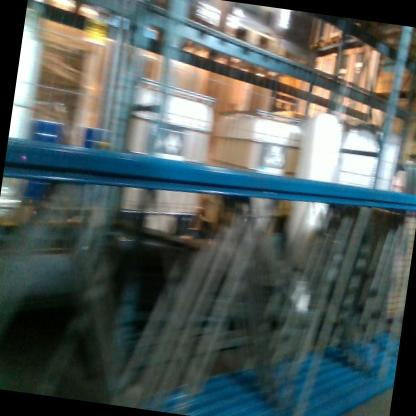pallet: (206, 14, 282, 71), (275, 38, 320, 74)
